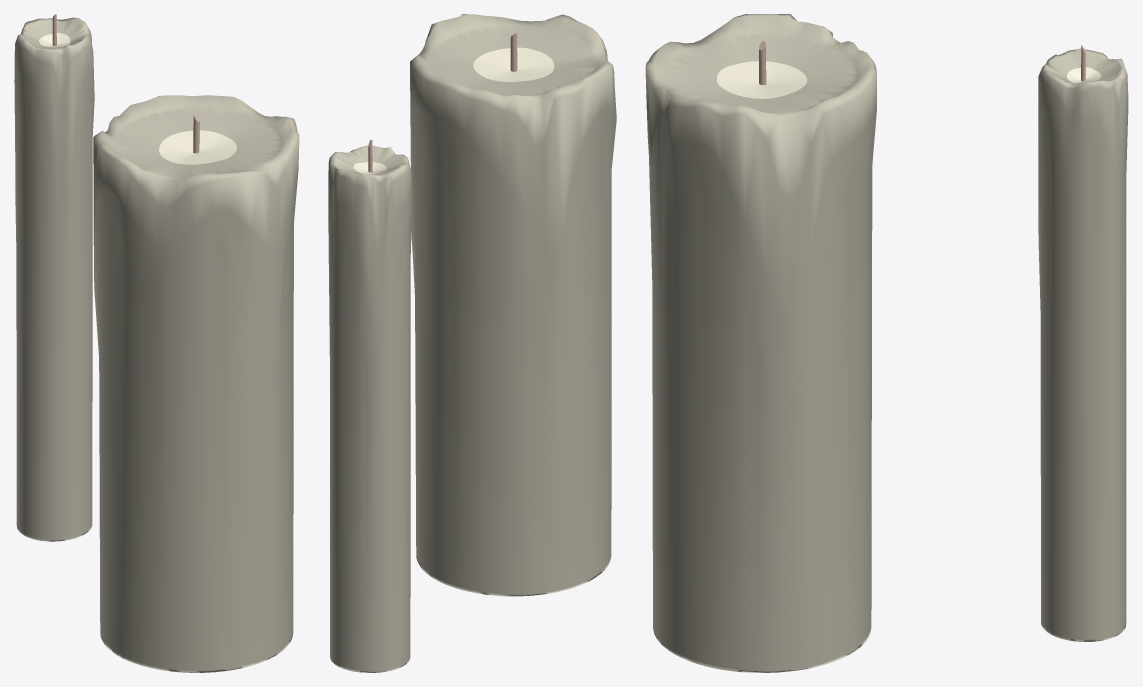
File: candles.fbx
The picture shows the model from 3 angles, left to right: view 1: azimuth 30°, elevation 25°; view 2: azimuth 150°, elevation 25°; view 3: azimuth 270°, elevation 25°; orthographic projection. The views are drawn at different scales.
Parts seen in each view (by area): view 1: Wick, Wick 2, Wet Wax; view 2: Wick, Wick 2, Wet Wax; view 3: Wick, Wick 2, Wet Wax.
Part boxes in pixels (box(x1,y1,x2,y2)): Wick: box(93, 95, 299, 672); Wick 2: box(14, 17, 94, 541); Wet Wax: box(159, 130, 236, 164); Wick: box(410, 14, 616, 596); Wick 2: box(328, 145, 412, 672); Wet Wax: box(473, 47, 554, 81); Wick: box(645, 14, 876, 672); Wick 2: box(1038, 48, 1128, 641); Wet Wax: box(717, 61, 807, 98).
Bounding box in the file's own units: 212 × 589 × 441.
